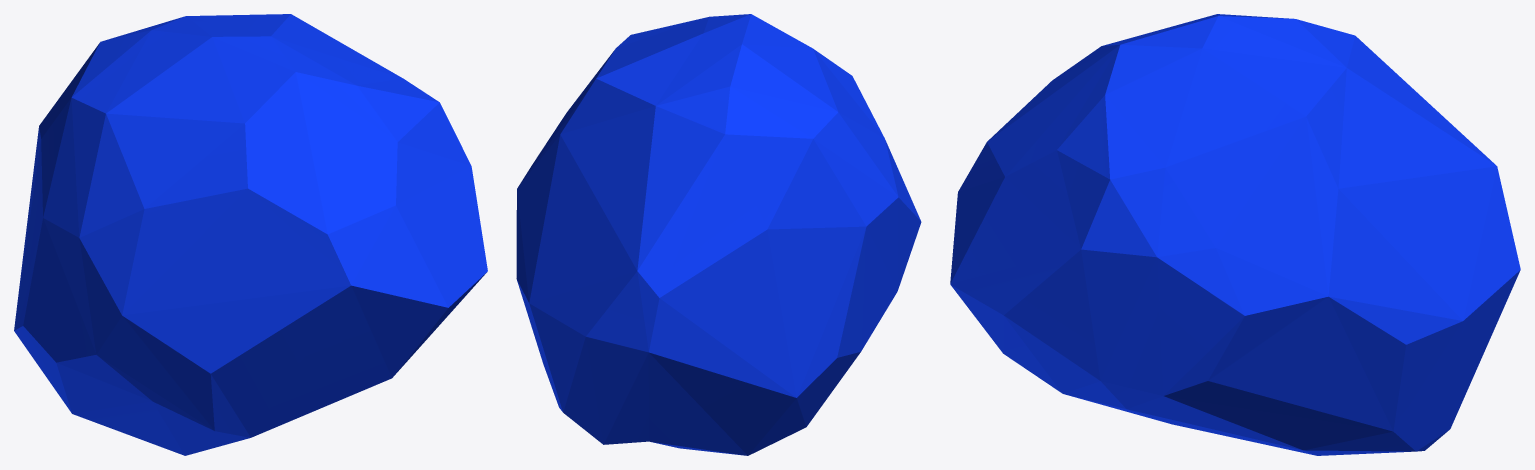
Rendered from SM_emissive_rock_14.fbx.
The picture shows the model from 3 angles, left to right: view 1: azimuth 30°, elevation 25°; view 2: azimuth 150°, elevation 25°; view 3: azimuth 270°, elevation 25°; orthographic projection. The views are drawn at different scales.
Parts seen in each view (by area): view 1: emissive_rock_14; view 2: emissive_rock_14; view 3: emissive_rock_14.
Boxes of the visible parts, box(x1,y1,x2,y2) form: emissive_rock_14: box(14, 14, 487, 455); emissive_rock_14: box(516, 14, 921, 455); emissive_rock_14: box(950, 14, 1520, 455).
Bounding box in the file's own units: 139 × 142 × 175.
